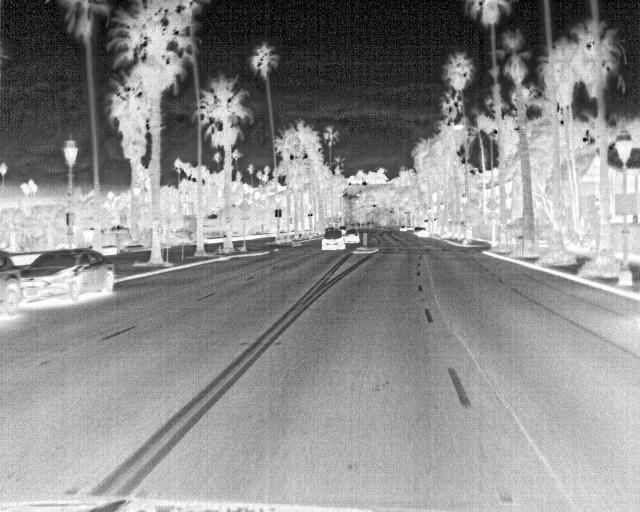car: (15, 245, 117, 306), (0, 252, 22, 317), (317, 227, 346, 252), (339, 228, 359, 244), (411, 225, 427, 237), (397, 222, 409, 234)
